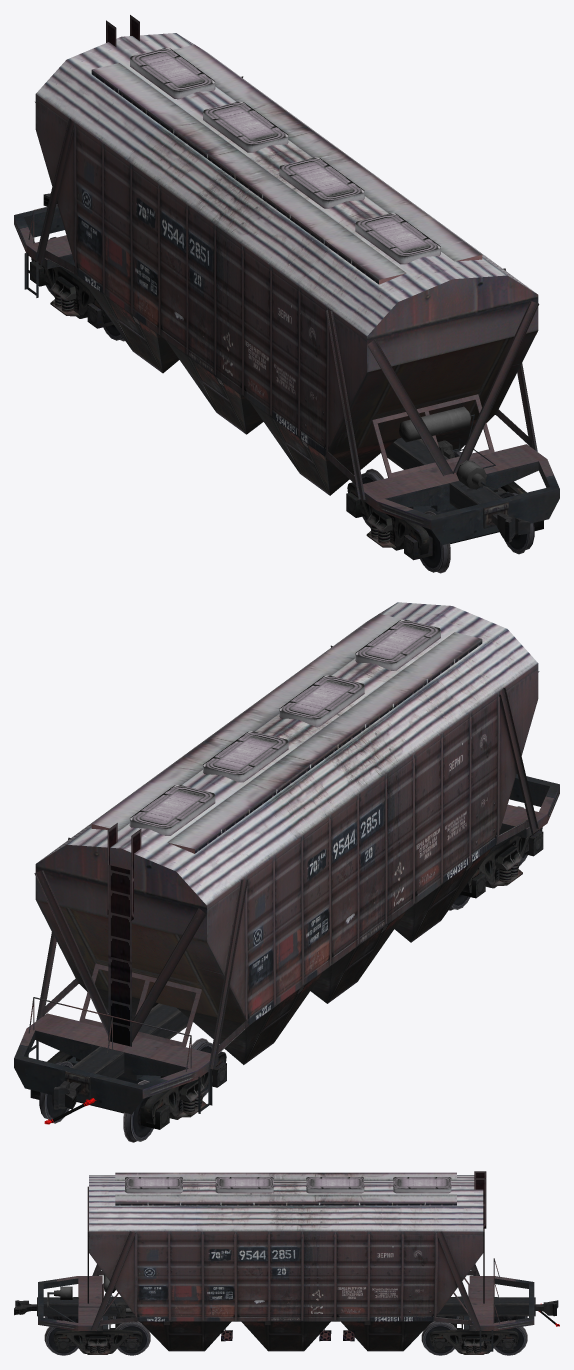
The model's file is Fr_hopper-1.gltf.
3 views of the same model, one above another, from view 1: azimuth 30°, elevation 25°; view 2: azimuth 150°, elevation 25°; view 3: azimuth 270°, elevation 25° (orthographic). The views are drawn at different scales.
Visible parts, largest first — view 1: Body, Details, Boige-1, Boige-2, Wheel-1; view 2: Body, Details, Boige-2, Boige-1, Wheel-4; view 3: Body, Details, Boige-1, Boige-2, Wheel-3, Wheel-2, Wheel-4, Wheel-1.
Part boxes in pixels (x1,y1,x2,y2): Body: (35,33,538,456); Details: (14,15,559,545); Boige-1: (346,481,543,560); Boige-2: (30,258,113,328); Wheel-1: (420,492,534,573); Body: (35,602,538,1025); Details: (14,613,559,1114); Boige-2: (30,1051,226,1129); Boige-1: (460,827,543,898); Wheel-4: (39,1061,153,1142); Body: (89,1175,483,1321); Details: (14,1171,558,1351); Boige-1: (53,1296,142,1354); Boige-2: (430,1296,518,1354); Wheel-3: (421,1316,459,1355); Wheel-2: (113,1316,150,1355); Wheel-4: (494,1316,527,1355); Wheel-1: (44,1316,78,1355).
Size of the model in its own units: 3.27 by 5.05 by 14.78.
Materials: 4 (2 with a texture image).
